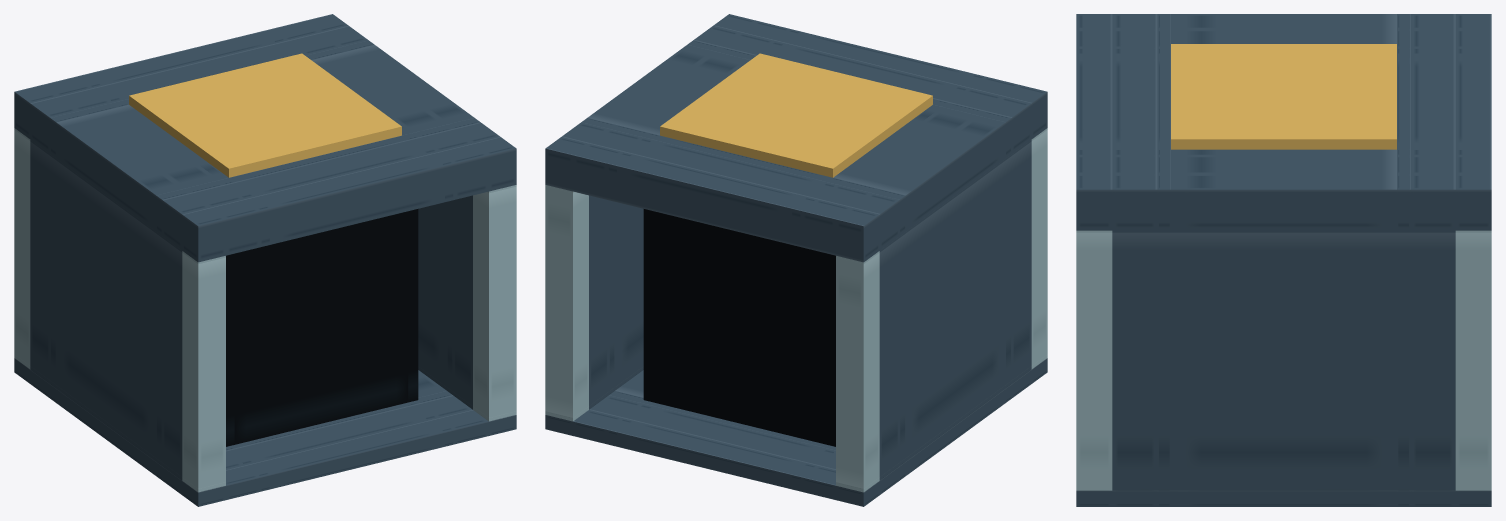
File: sc_factory_opposite.obj
3 renders of one model, left to right at view 1: azimuth 30°, elevation 25°; view 2: azimuth 150°, elevation 25°; view 3: azimuth 270°, elevation 25°, orthographic. The views are drawn at different scales.
Bounding box in the file's own units: 18.4 × 16 × 18.4.
Materials: 1 (1 with a texture image).
